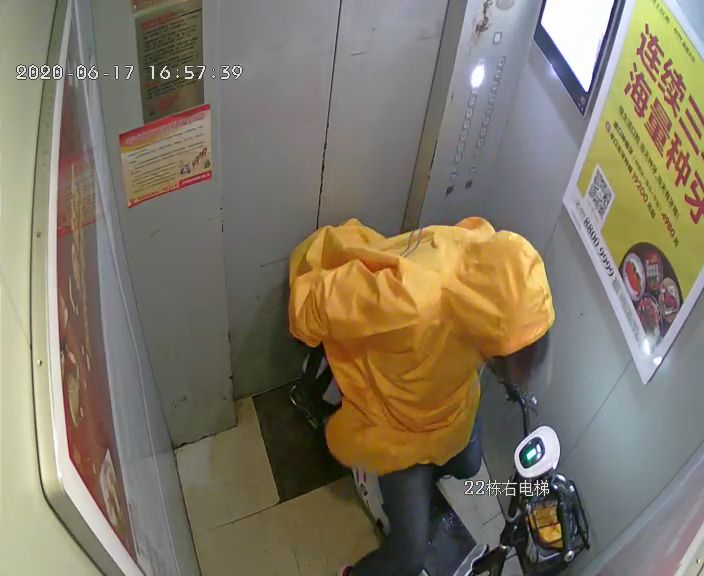Electric-bicycle: (436, 381, 594, 572)
